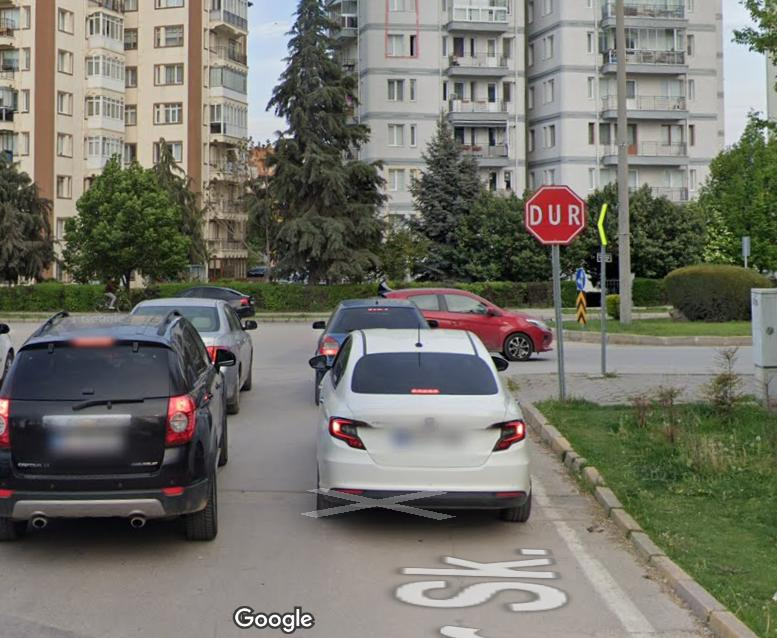stop: (526, 186, 586, 244)
